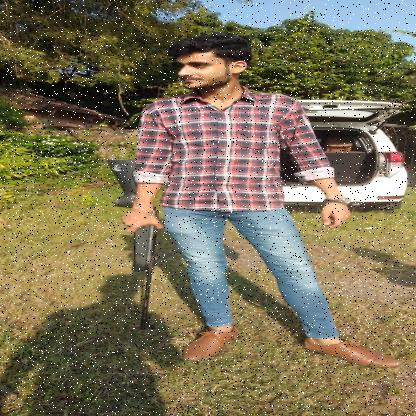rifle: (104, 158, 164, 332)
